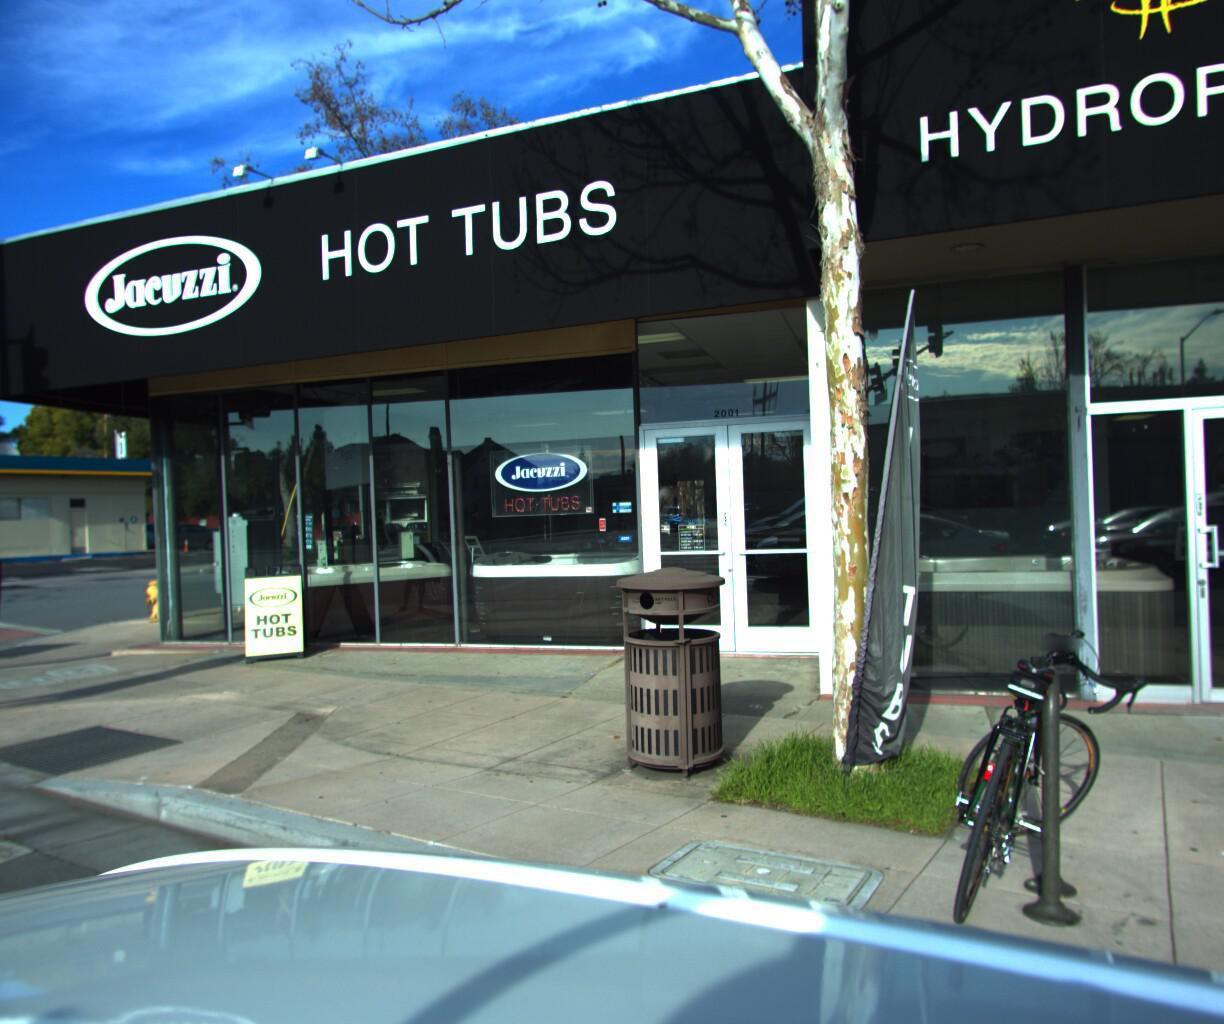bicycle: (921, 611, 1143, 1024)
car: (95, 513, 202, 549), (123, 516, 231, 550)
